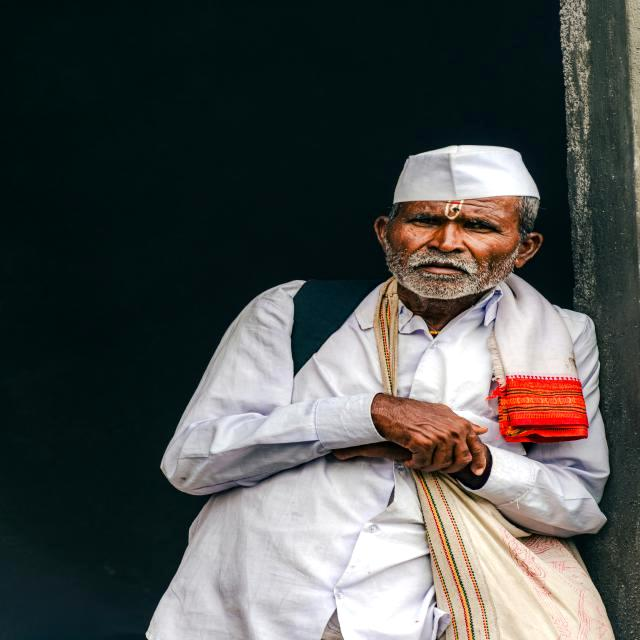no_hard_hat: (394, 145, 539, 203)
person: (141, 139, 613, 640)
